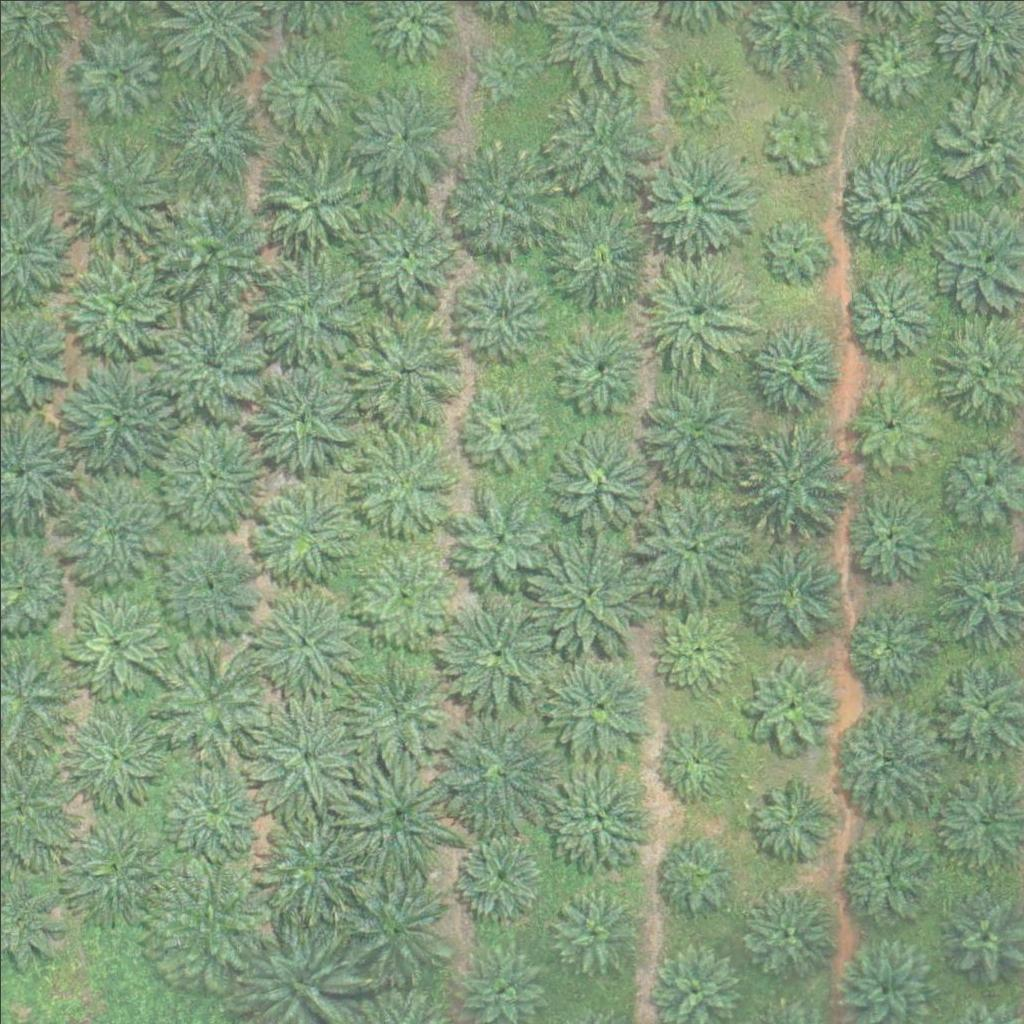Kelapa_Sawit: (151, 865, 264, 979), (828, 703, 941, 817), (731, 533, 844, 647), (739, 420, 852, 534), (345, 74, 458, 188), (733, 312, 846, 425), (641, 250, 754, 363), (542, 761, 655, 874), (541, 645, 654, 758), (438, 712, 551, 825), (440, 594, 553, 707), (344, 422, 457, 535), (352, 313, 465, 426), (259, 812, 372, 925), (156, 750, 269, 863), (152, 643, 265, 756), (155, 529, 268, 642), (52, 475, 165, 588), (60, 365, 173, 478), (58, 244, 171, 357), (247, 245, 360, 358), (256, 146, 369, 259), (347, 194, 460, 307), (639, 139, 752, 252), (634, 488, 746, 602), (637, 376, 749, 490), (540, 308, 652, 422), (62, 817, 174, 931), (58, 702, 170, 816), (446, 139, 558, 253), (543, 196, 655, 310), (337, 869, 449, 982), (533, 539, 645, 652), (539, 426, 651, 539), (342, 754, 454, 867), (340, 652, 452, 765), (251, 693, 363, 806), (250, 582, 362, 695), (245, 358, 357, 471), (157, 415, 269, 528), (156, 303, 268, 416), (57, 133, 169, 246), (154, 193, 266, 306), (158, 81, 270, 194), (540, 84, 652, 197), (831, 140, 943, 253), (737, 884, 837, 985), (452, 489, 552, 590), (356, 543, 456, 644), (256, 483, 356, 584), (66, 596, 166, 697), (63, 19, 163, 120), (839, 598, 939, 698), (839, 484, 939, 584), (742, 652, 842, 752), (449, 261, 549, 361), (259, 38, 359, 138), (453, 829, 541, 917), (846, 264, 934, 352), (747, 773, 835, 861), (649, 719, 737, 807), (652, 605, 740, 693), (849, 24, 937, 112), (550, 886, 637, 975), (842, 834, 929, 922), (847, 380, 934, 468), (652, 831, 739, 919), (456, 383, 543, 471), (668, 62, 731, 125), (760, 216, 823, 279), (765, 105, 828, 168), (472, 42, 534, 105)
